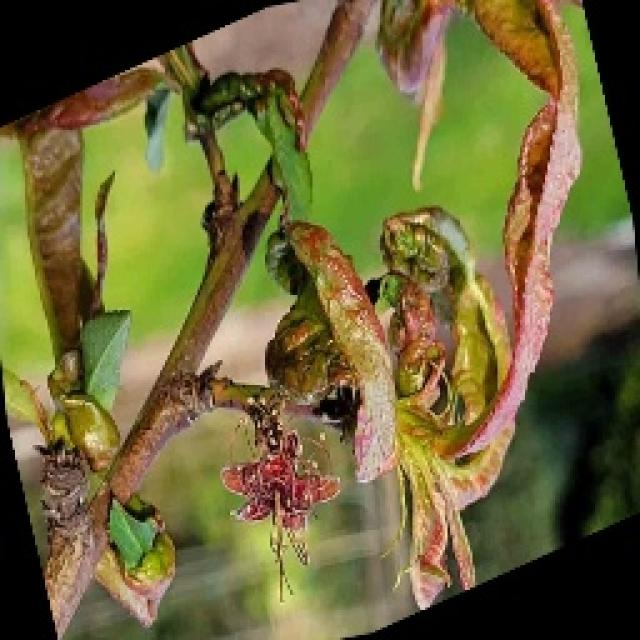peach_leaf_curl: (313, 180, 596, 458), (218, 422, 340, 602)
